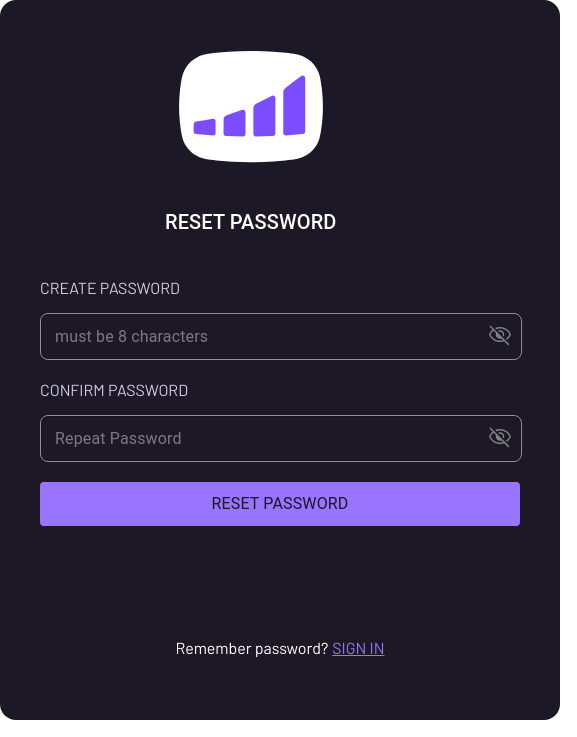
ForgotPassword Organism TestCase › should toggles password visibility icon when the confirm password input is clicked
The width and height of the screenshot is (577, 737).
Check: the picture with alt text "InvisibleIconShowConfirmPassword" is shown, box [489,426,511,448]
Click the 2nd button with alt text "InvisibleIconShowConfirmPassword": (500, 438) [481,416,519,460]
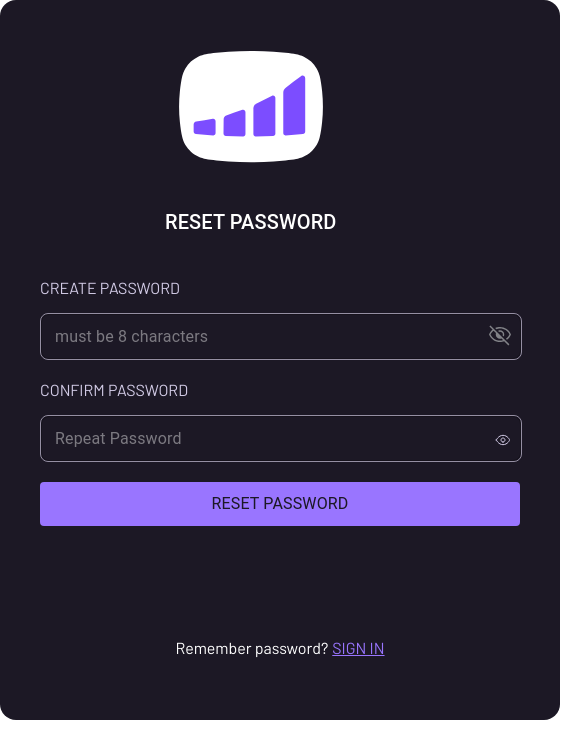
Check: the picture with alt text "VisibleIconShowConfirmPassword" is shown, box [495,432,511,448]
Click the 2nd button with alt text "VisibleIconShowConfirmPassword": (503, 438) [487,416,519,460]
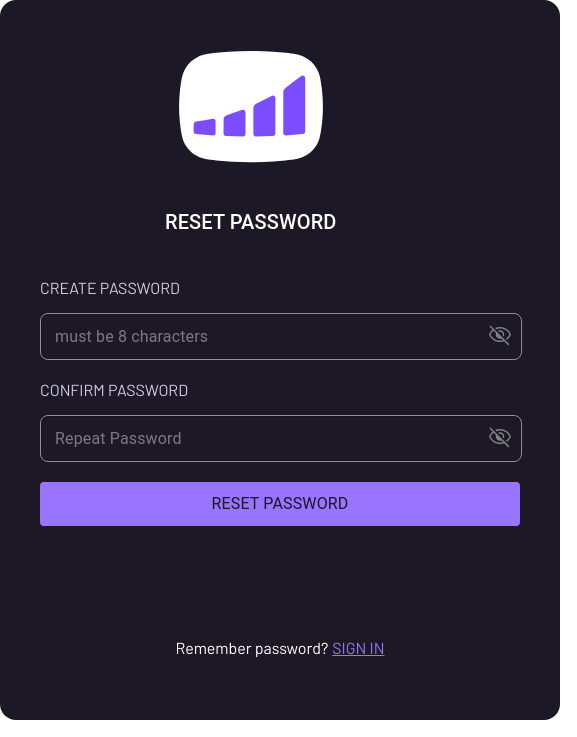
Check: the picture with alt text "InvisibleIconShowConfirmPassword" is shown, box [489,426,511,448]
